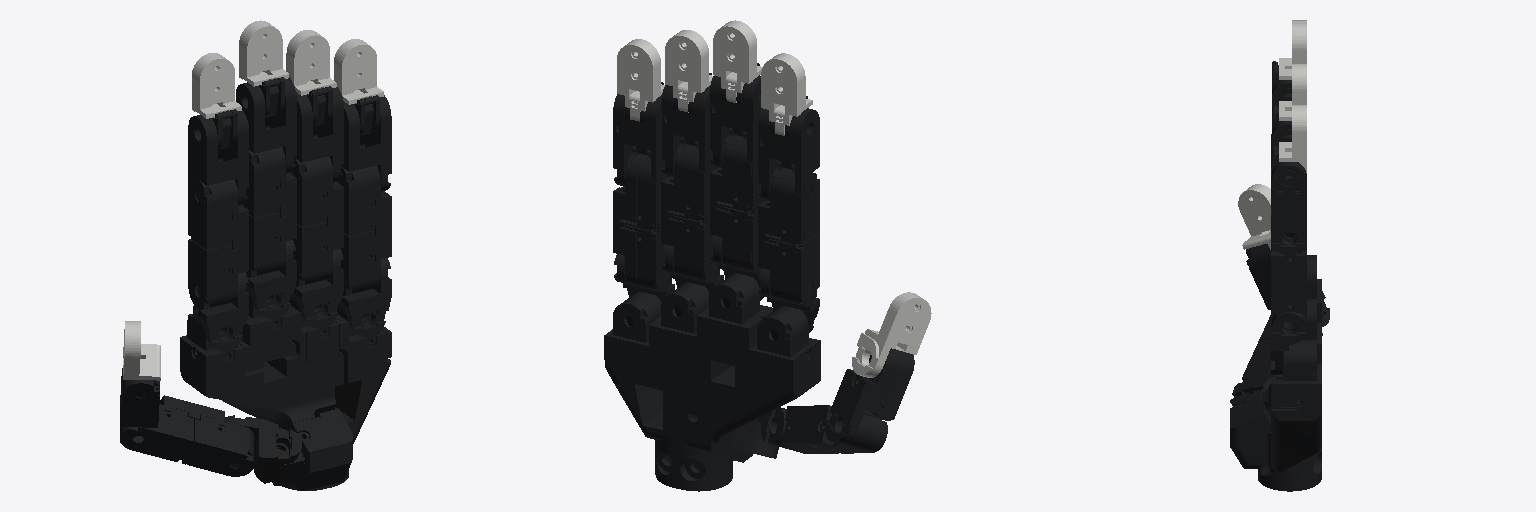
The robot description file, URDF, robot "handling_hand_left":
<?xml version="1.0"?>
<!-- Handling (SKKU) 16-DoF low-cost modular robot hand, LEFT hand. Web/visual model.
     Units: metres. Root: palm_link. +z = finger direction (up), -y = palm side
     (fingers flex toward -y), +x = little-finger side, thumb on the -x side.
     16 actuated joints (4 x abd/mcp/pip + thumb cmc/mcp/pip/dip); finger DIP and the
     3 mm coupler link are <mimic> joints of PIP (passive PIP-DIP four-bar).
     Generated from the Inventor assembly (left hand v2.iam) by build_web_hand.py.
     DIP mimic = linear fit of the four-bar; exact PIP->DIP table in hand_meta.json -->
<robot name="handling_hand_left">
  <material name="black_pla"><color rgba="0.160000 0.165000 0.175000 1.000000"/></material>
  <material name="fingertip_grey"><color rgba="0.780000 0.785000 0.770000 1.000000"/></material>
  <link name="palm_link">
    <visual>
      <origin xyz="0 0 0" rpy="0 0 0"/>
      <geometry><mesh filename="meshes/palm.stl"/></geometry>
      <material name="black_pla"/>
    </visual>
  </link>
  <link name="index_base_link">
    <visual>
      <origin xyz="0 0 0" rpy="0 0 0"/>
      <geometry><mesh filename="meshes/finger_base.stl"/></geometry>
      <material name="black_pla"/>
    </visual>
  </link>
  <link name="index_abd_link">
    <visual>
      <origin xyz="0 0 0" rpy="0 0 0"/>
      <geometry><mesh filename="meshes/finger_abd.stl"/></geometry>
      <material name="black_pla"/>
    </visual>
  </link>
  <link name="index_proximal_link">
    <visual>
      <origin xyz="0 0 0" rpy="0 0 0"/>
      <geometry><mesh filename="meshes/finger_proximal.stl"/></geometry>
      <material name="black_pla"/>
    </visual>
  </link>
  <link name="index_middle_link">
    <visual>
      <origin xyz="0 0 0" rpy="0 0 0"/>
      <geometry><mesh filename="meshes/finger_middle.stl"/></geometry>
      <material name="black_pla"/>
    </visual>
  </link>
  <link name="index_distal_link">
    <visual>
      <origin xyz="0 0 0" rpy="0 0 0"/>
      <geometry><mesh filename="meshes/finger_distal.stl"/></geometry>
      <material name="black_pla"/>
    </visual>
    <visual>
      <origin xyz="0 0 0" rpy="0 0 0"/>
      <geometry><mesh filename="meshes/finger_distal_tip.stl"/></geometry>
      <material name="fingertip_grey"/>
    </visual>
  </link>
  <link name="index_coupler_link">
    <visual>
      <origin xyz="0 0 0" rpy="0 0 0"/>
      <geometry><mesh filename="meshes/finger_coupler.stl"/></geometry>
      <material name="black_pla"/>
    </visual>
  </link>
  <link name="middle_base_link">
    <visual>
      <origin xyz="0 0 0" rpy="0 0 0"/>
      <geometry><mesh filename="meshes/finger_base.stl"/></geometry>
      <material name="black_pla"/>
    </visual>
  </link>
  <link name="middle_abd_link">
    <visual>
      <origin xyz="0 0 0" rpy="0 0 0"/>
      <geometry><mesh filename="meshes/finger_abd.stl"/></geometry>
      <material name="black_pla"/>
    </visual>
  </link>
  <link name="middle_proximal_link">
    <visual>
      <origin xyz="0 0 0" rpy="0 0 0"/>
      <geometry><mesh filename="meshes/finger_proximal.stl"/></geometry>
      <material name="black_pla"/>
    </visual>
  </link>
  <link name="middle_middle_link">
    <visual>
      <origin xyz="0 0 0" rpy="0 0 0"/>
      <geometry><mesh filename="meshes/finger_middle.stl"/></geometry>
      <material name="black_pla"/>
    </visual>
  </link>
  <link name="middle_distal_link">
    <visual>
      <origin xyz="0 0 0" rpy="0 0 0"/>
      <geometry><mesh filename="meshes/finger_distal.stl"/></geometry>
      <material name="black_pla"/>
    </visual>
    <visual>
      <origin xyz="0 0 0" rpy="0 0 0"/>
      <geometry><mesh filename="meshes/finger_distal_tip.stl"/></geometry>
      <material name="fingertip_grey"/>
    </visual>
  </link>
  <link name="middle_coupler_link">
    <visual>
      <origin xyz="0 0 0" rpy="0 0 0"/>
      <geometry><mesh filename="meshes/finger_coupler.stl"/></geometry>
      <material name="black_pla"/>
    </visual>
  </link>
  <link name="ring_base_link">
    <visual>
      <origin xyz="0 0 0" rpy="0 0 0"/>
      <geometry><mesh filename="meshes/finger_base.stl"/></geometry>
      <material name="black_pla"/>
    </visual>
  </link>
  <link name="ring_abd_link">
    <visual>
      <origin xyz="0 0 0" rpy="0 0 0"/>
      <geometry><mesh filename="meshes/finger_abd.stl"/></geometry>
      <material name="black_pla"/>
    </visual>
  </link>
  <link name="ring_proximal_link">
    <visual>
      <origin xyz="0 0 0" rpy="0 0 0"/>
      <geometry><mesh filename="meshes/finger_proximal.stl"/></geometry>
      <material name="black_pla"/>
    </visual>
  </link>
  <link name="ring_middle_link">
    <visual>
      <origin xyz="0 0 0" rpy="0 0 0"/>
      <geometry><mesh filename="meshes/finger_middle.stl"/></geometry>
      <material name="black_pla"/>
    </visual>
  </link>
  <link name="ring_distal_link">
    <visual>
      <origin xyz="0 0 0" rpy="0 0 0"/>
      <geometry><mesh filename="meshes/finger_distal.stl"/></geometry>
      <material name="black_pla"/>
    </visual>
    <visual>
      <origin xyz="0 0 0" rpy="0 0 0"/>
      <geometry><mesh filename="meshes/finger_distal_tip.stl"/></geometry>
      <material name="fingertip_grey"/>
    </visual>
  </link>
  <link name="ring_coupler_link">
    <visual>
      <origin xyz="0 0 0" rpy="0 0 0"/>
      <geometry><mesh filename="meshes/finger_coupler.stl"/></geometry>
      <material name="black_pla"/>
    </visual>
  </link>
  <link name="little_base_link">
    <visual>
      <origin xyz="0 0 0" rpy="0 0 0"/>
      <geometry><mesh filename="meshes/finger_base.stl"/></geometry>
      <material name="black_pla"/>
    </visual>
  </link>
  <link name="little_abd_link">
    <visual>
      <origin xyz="0 0 0" rpy="0 0 0"/>
      <geometry><mesh filename="meshes/finger_abd.stl"/></geometry>
      <material name="black_pla"/>
    </visual>
  </link>
  <link name="little_proximal_link">
    <visual>
      <origin xyz="0 0 0" rpy="0 0 0"/>
      <geometry><mesh filename="meshes/finger_proximal.stl"/></geometry>
      <material name="black_pla"/>
    </visual>
  </link>
  <link name="little_middle_link">
    <visual>
      <origin xyz="0 0 0" rpy="0 0 0"/>
      <geometry><mesh filename="meshes/finger_middle.stl"/></geometry>
      <material name="black_pla"/>
    </visual>
  </link>
  <link name="little_distal_link">
    <visual>
      <origin xyz="0 0 0" rpy="0 0 0"/>
      <geometry><mesh filename="meshes/finger_distal.stl"/></geometry>
      <material name="black_pla"/>
    </visual>
    <visual>
      <origin xyz="0 0 0" rpy="0 0 0"/>
      <geometry><mesh filename="meshes/finger_distal_tip.stl"/></geometry>
      <material name="fingertip_grey"/>
    </visual>
  </link>
  <link name="little_coupler_link">
    <visual>
      <origin xyz="0 0 0" rpy="0 0 0"/>
      <geometry><mesh filename="meshes/finger_coupler.stl"/></geometry>
      <material name="black_pla"/>
    </visual>
  </link>
  <link name="thumb_base_link">
    <visual>
      <origin xyz="0 0 0" rpy="0 0 0"/>
      <geometry><mesh filename="meshes/thumb_base.stl"/></geometry>
      <material name="black_pla"/>
    </visual>
  </link>
  <link name="thumb_cmc_link">
    <visual>
      <origin xyz="0 0 0" rpy="0 0 0"/>
      <geometry><mesh filename="meshes/thumb_cmc.stl"/></geometry>
      <material name="black_pla"/>
    </visual>
  </link>
  <link name="thumb_mcp_link">
    <visual>
      <origin xyz="0 0 0" rpy="0 0 0"/>
      <geometry><mesh filename="meshes/thumb_mcp.stl"/></geometry>
      <material name="black_pla"/>
    </visual>
  </link>
  <link name="thumb_pip_link">
    <visual>
      <origin xyz="0 0 0" rpy="0 0 0"/>
      <geometry><mesh filename="meshes/thumb_pip.stl"/></geometry>
      <material name="black_pla"/>
    </visual>
  </link>
  <link name="thumb_dip_link">
    <visual>
      <origin xyz="0 0 0" rpy="0 0 0"/>
      <geometry><mesh filename="meshes/thumb_tip.stl"/></geometry>
      <material name="fingertip_grey"/>
    </visual>
  </link>
  <joint name="index_base_mount" type="fixed">
    <parent link="palm_link"/>
    <child link="index_base_link"/>
    <origin xyz="-0.036000 0.004352 0.050563" rpy="0 0 0"/>
  </joint>
  <joint name="index_abd" type="revolute">
    <parent link="index_base_link"/>
    <child link="index_abd_link"/>
    <origin xyz="0 0 0" rpy="0 0 0"/>
    <axis xyz="0 -1.000000 0"/>
    <limit lower="-0.350000" upper="0.350000" effort="0.18" velocity="6.0"/>
  </joint>
  <joint name="index_mcp" type="revolute">
    <parent link="index_abd_link"/>
    <child link="index_proximal_link"/>
    <origin xyz="0 -0.004692 0.019800" rpy="0 0 0"/>
    <axis xyz="1.000000 0 0"/>
    <limit lower="0.000000" upper="3.316126" effort="0.18" velocity="6.0"/>
  </joint>
  <joint name="index_pip" type="revolute">
    <parent link="index_proximal_link"/>
    <child link="index_middle_link"/>
    <origin xyz="0 0 0.046026" rpy="0 0 0"/>
    <axis xyz="1.000000 0 0"/>
    <limit lower="0.000000" upper="1.745329" effort="0.18" velocity="6.0"/>
  </joint>
  <joint name="index_dip" type="revolute">
    <parent link="index_middle_link"/>
    <child link="index_distal_link"/>
    <origin xyz="0 0 0.030000" rpy="0 0 0"/>
    <axis xyz="1.000000 0 0"/>
    <limit lower="0.000000" upper="1.745329" effort="0.18" velocity="6.0"/>
    <mimic joint="index_pip" multiplier="1.0405" offset="0"/>
  </joint>
  <joint name="index_dip_coupler" type="revolute">
    <parent link="index_proximal_link"/>
    <child link="index_coupler_link"/>
    <origin xyz="0 0 0.055886" rpy="0 0 0"/>
    <axis xyz="1.000000 0 0"/>
    <limit lower="-0.050000" upper="2.600000" effort="0.18" velocity="6.0"/>
    <mimic joint="index_pip" multiplier="1.3812" offset="0"/>
  </joint>
  <joint name="middle_base_mount" type="fixed">
    <parent link="palm_link"/>
    <child link="middle_base_link"/>
    <origin xyz="-0.012000 0.004352 0.060563" rpy="0 0 0"/>
  </joint>
  <joint name="middle_abd" type="revolute">
    <parent link="middle_base_link"/>
    <child link="middle_abd_link"/>
    <origin xyz="0 0 0" rpy="0 0 0"/>
    <axis xyz="0 1.000000 0"/>
    <limit lower="-0.350000" upper="0.350000" effort="0.18" velocity="6.0"/>
  </joint>
  <joint name="middle_mcp" type="revolute">
    <parent link="middle_abd_link"/>
    <child link="middle_proximal_link"/>
    <origin xyz="0 -0.004692 0.019800" rpy="0 0 0"/>
    <axis xyz="1.000000 0 0"/>
    <limit lower="0.000000" upper="3.316126" effort="0.18" velocity="6.0"/>
  </joint>
  <joint name="middle_pip" type="revolute">
    <parent link="middle_proximal_link"/>
    <child link="middle_middle_link"/>
    <origin xyz="0 0 0.046026" rpy="0 0 0"/>
    <axis xyz="1.000000 0 0"/>
    <limit lower="0.000000" upper="1.745329" effort="0.18" velocity="6.0"/>
  </joint>
  <joint name="middle_dip" type="revolute">
    <parent link="middle_middle_link"/>
    <child link="middle_distal_link"/>
    <origin xyz="0 0 0.030000" rpy="0 0 0"/>
    <axis xyz="1.000000 0 0"/>
    <limit lower="0.000000" upper="1.745329" effort="0.18" velocity="6.0"/>
    <mimic joint="middle_pip" multiplier="1.0405" offset="0"/>
  </joint>
  <joint name="middle_dip_coupler" type="revolute">
    <parent link="middle_proximal_link"/>
    <child link="middle_coupler_link"/>
    <origin xyz="0 0 0.055886" rpy="0 0 0"/>
    <axis xyz="1.000000 0 0"/>
    <limit lower="-0.050000" upper="2.600000" effort="0.18" velocity="6.0"/>
    <mimic joint="middle_pip" multiplier="1.3812" offset="0"/>
  </joint>
  <joint name="ring_base_mount" type="fixed">
    <parent link="palm_link"/>
    <child link="ring_base_link"/>
    <origin xyz="0.012000 0.004352 0.050563" rpy="0 0 0"/>
  </joint>
  <joint name="ring_abd" type="revolute">
    <parent link="ring_base_link"/>
    <child link="ring_abd_link"/>
    <origin xyz="0 0 0" rpy="0 0 0"/>
    <axis xyz="0 1.000000 0"/>
    <limit lower="-0.350000" upper="0.350000" effort="0.18" velocity="6.0"/>
  </joint>
  <joint name="ring_mcp" type="revolute">
    <parent link="ring_abd_link"/>
    <child link="ring_proximal_link"/>
    <origin xyz="0 -0.004692 0.019800" rpy="0 0 0"/>
    <axis xyz="1.000000 0 0"/>
    <limit lower="0.000000" upper="3.316126" effort="0.18" velocity="6.0"/>
  </joint>
  <joint name="ring_pip" type="revolute">
    <parent link="ring_proximal_link"/>
    <child link="ring_middle_link"/>
    <origin xyz="0 0 0.046026" rpy="0 0 0"/>
    <axis xyz="1.000000 0 0"/>
    <limit lower="0.000000" upper="1.745329" effort="0.18" velocity="6.0"/>
  </joint>
  <joint name="ring_dip" type="revolute">
    <parent link="ring_middle_link"/>
    <child link="ring_distal_link"/>
    <origin xyz="0 0 0.030000" rpy="0 0 0"/>
    <axis xyz="1.000000 0 0"/>
    <limit lower="0.000000" upper="1.745329" effort="0.18" velocity="6.0"/>
    <mimic joint="ring_pip" multiplier="1.0405" offset="0"/>
  </joint>
  <joint name="ring_dip_coupler" type="revolute">
    <parent link="ring_proximal_link"/>
    <child link="ring_coupler_link"/>
    <origin xyz="0 0 0.055886" rpy="0 0 0"/>
    <axis xyz="1.000000 0 0"/>
    <limit lower="-0.050000" upper="2.600000" effort="0.18" velocity="6.0"/>
    <mimic joint="ring_pip" multiplier="1.3812" offset="0"/>
  </joint>
  <joint name="little_base_mount" type="fixed">
    <parent link="palm_link"/>
    <child link="little_base_link"/>
    <origin xyz="0.036000 0.004352 0.040563" rpy="0 0 0"/>
  </joint>
  <joint name="little_abd" type="revolute">
    <parent link="little_base_link"/>
    <child link="little_abd_link"/>
    <origin xyz="0 0 0" rpy="0 0 0"/>
    <axis xyz="0 1.000000 0"/>
    <limit lower="-0.350000" upper="0.350000" effort="0.18" velocity="6.0"/>
  </joint>
  <joint name="little_mcp" type="revolute">
    <parent link="little_abd_link"/>
    <child link="little_proximal_link"/>
    <origin xyz="0 -0.004692 0.019800" rpy="0 0 0"/>
    <axis xyz="1.000000 0 0"/>
    <limit lower="0.000000" upper="3.316126" effort="0.18" velocity="6.0"/>
  </joint>
  <joint name="little_pip" type="revolute">
    <parent link="little_proximal_link"/>
    <child link="little_middle_link"/>
    <origin xyz="0 0 0.046026" rpy="0 0 0"/>
    <axis xyz="1.000000 0 0"/>
    <limit lower="0.000000" upper="1.745329" effort="0.18" velocity="6.0"/>
  </joint>
  <joint name="little_dip" type="revolute">
    <parent link="little_middle_link"/>
    <child link="little_distal_link"/>
    <origin xyz="0 0 0.030000" rpy="0 0 0"/>
    <axis xyz="1.000000 0 0"/>
    <limit lower="0.000000" upper="1.745329" effort="0.18" velocity="6.0"/>
    <mimic joint="little_pip" multiplier="1.0405" offset="0"/>
  </joint>
  <joint name="little_dip_coupler" type="revolute">
    <parent link="little_proximal_link"/>
    <child link="little_coupler_link"/>
    <origin xyz="0 0 0.055886" rpy="0 0 0"/>
    <axis xyz="1.000000 0 0"/>
    <limit lower="-0.050000" upper="2.600000" effort="0.18" velocity="6.0"/>
    <mimic joint="little_pip" multiplier="1.3812" offset="0"/>
  </joint>
  <joint name="thumb_mount" type="fixed">
    <parent link="palm_link"/>
    <child link="thumb_base_link"/>
    <origin xyz="-0.014813 -0.014398 -0.012667" rpy="0 0 0"/>
  </joint>
  <joint name="thumb_cmc" type="revolute">
    <parent link="thumb_base_link"/>
    <child link="thumb_cmc_link"/>
    <origin xyz="0 0 0" rpy="0 0 0"/>
    <axis xyz="0 -0.500000 0.866025"/>
    <limit lower="-1.200000" upper="1.200000" effort="0.18" velocity="6.0"/>
  </joint>
  <joint name="thumb_mcp" type="revolute">
    <parent link="thumb_cmc_link"/>
    <child link="thumb_mcp_link"/>
    <origin xyz="-0.018630 0.003752 0.007584" rpy="0 0 0"/>
    <axis xyz="0.452250 0.772401 0.445946"/>
    <limit lower="0.000000" upper="1.745329" effort="0.18" velocity="6.0"/>
  </joint>
  <joint name="thumb_pip" type="revolute">
    <parent link="thumb_mcp_link"/>
    <child link="thumb_pip_link"/>
    <origin xyz="-0.040674 0.014457 0.015969" rpy="0 0 0"/>
    <axis xyz="0.452250 0.772401 0.445946"/>
    <limit lower="-1.745329" upper="1.745329" effort="0.18" velocity="6.0"/>
  </joint>
  <joint name="thumb_dip" type="revolute">
    <parent link="thumb_pip_link"/>
    <child link="thumb_dip_link"/>
    <origin xyz="-0.006008 -0.012652 0.028006" rpy="0 0 0"/>
    <axis xyz="0.452250 0.772401 0.445946"/>
    <limit lower="0.000000" upper="1.745329" effort="0.18" velocity="6.0"/>
  </joint>
</robot>

--- What the picture shows (computed from the rendered views, not written in the file) ---
The picture shows the robot from 3 angles, left to right: view 1: azimuth 30°, elevation 25°; view 2: azimuth 150°, elevation 25°; view 3: azimuth 270°, elevation 25°; orthographic projection.
Model handling_hand_left with 30 links and 29 joints (24 revolute, 5 fixed), rooted at palm_link, posed all joints at 0.
Links seen in each view (by area): view 1: palm_link, index_proximal_link, thumb_mcp_link, little_proximal_link, middle_proximal_link, ring_proximal_link, index_middle_link, middle_middle_link, middle_distal_link, index_distal_link, ring_distal_link, little_distal_link (+14 smaller); view 2: palm_link, index_proximal_link, ring_proximal_link, little_proximal_link, middle_proximal_link, thumb_pip_link, index_middle_link, thumb_dip_link, thumb_mcp_link, index_distal_link, middle_distal_link, ring_distal_link (+14 smaller); view 3: palm_link, little_middle_link, little_proximal_link, thumb_dip_link, little_base_link, little_abd_link, little_distal_link, thumb_pip_link, middle_distal_link, ring_distal_link, thumb_mcp_link, thumb_cmc_link.
Boxes of the visible links, left/top/right/bottom form: palm_link: left=180, top=305, right=391, bottom=490; index_proximal_link: left=188, top=178, right=248, bottom=309; thumb_mcp_link: left=120, top=395, right=254, bottom=476; little_proximal_link: left=338, top=165, right=391, bottom=295; middle_proximal_link: left=243, top=147, right=296, bottom=277; ring_proximal_link: left=290, top=156, right=343, bottom=286; index_middle_link: left=188, top=110, right=248, bottom=205; middle_middle_link: left=236, top=77, right=296, bottom=172; middle_distal_link: left=239, top=20, right=288, bottom=116; index_distal_link: left=192, top=53, right=241, bottom=148; ring_distal_link: left=286, top=30, right=336, bottom=124; little_distal_link: left=334, top=39, right=383, bottom=134; palm_link: left=604, top=306, right=820, bottom=491; index_proximal_link: left=758, top=161, right=819, bottom=306; ring_proximal_link: left=661, top=137, right=719, bottom=282; little_proximal_link: left=613, top=146, right=671, bottom=292; middle_proximal_link: left=710, top=128, right=766, bottom=273; thumb_pip_link: left=825, top=348, right=914, bottom=444; index_middle_link: left=758, top=108, right=819, bottom=200; thumb_dip_link: left=852, top=292, right=931, bottom=377; thumb_mcp_link: left=778, top=405, right=887, bottom=453; index_distal_link: left=761, top=53, right=812, bottom=136; middle_distal_link: left=713, top=20, right=762, bottom=104; ring_distal_link: left=665, top=30, right=712, bottom=113; palm_link: left=1230, top=279, right=1321, bottom=491; little_middle_link: left=1272, top=162, right=1306, bottom=254; little_proximal_link: left=1271, top=218, right=1306, bottom=330; thumb_dip_link: left=1238, top=184, right=1270, bottom=249; little_base_link: left=1271, top=340, right=1316, bottom=408; little_abd_link: left=1271, top=312, right=1306, bottom=374; little_distal_link: left=1272, top=105, right=1306, bottom=177; thumb_pip_link: left=1246, top=244, right=1329, bottom=326; middle_distal_link: left=1272, top=23, right=1306, bottom=88; ring_distal_link: left=1272, top=64, right=1306, bottom=129; thumb_mcp_link: left=1242, top=315, right=1322, bottom=381; thumb_cmc_link: left=1230, top=366, right=1270, bottom=406.
Size in the robot's own frame: 0.1423 by 0.0472 by 0.2221 metres.
34 mesh visuals loaded from 13 distinct referenced files (13 binary STL).
